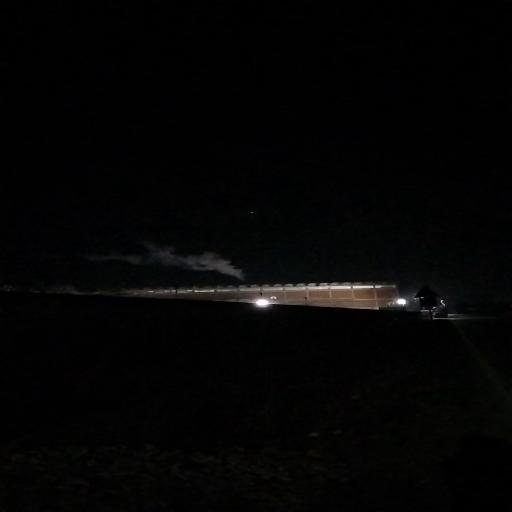leakage: (116, 236, 258, 288)
